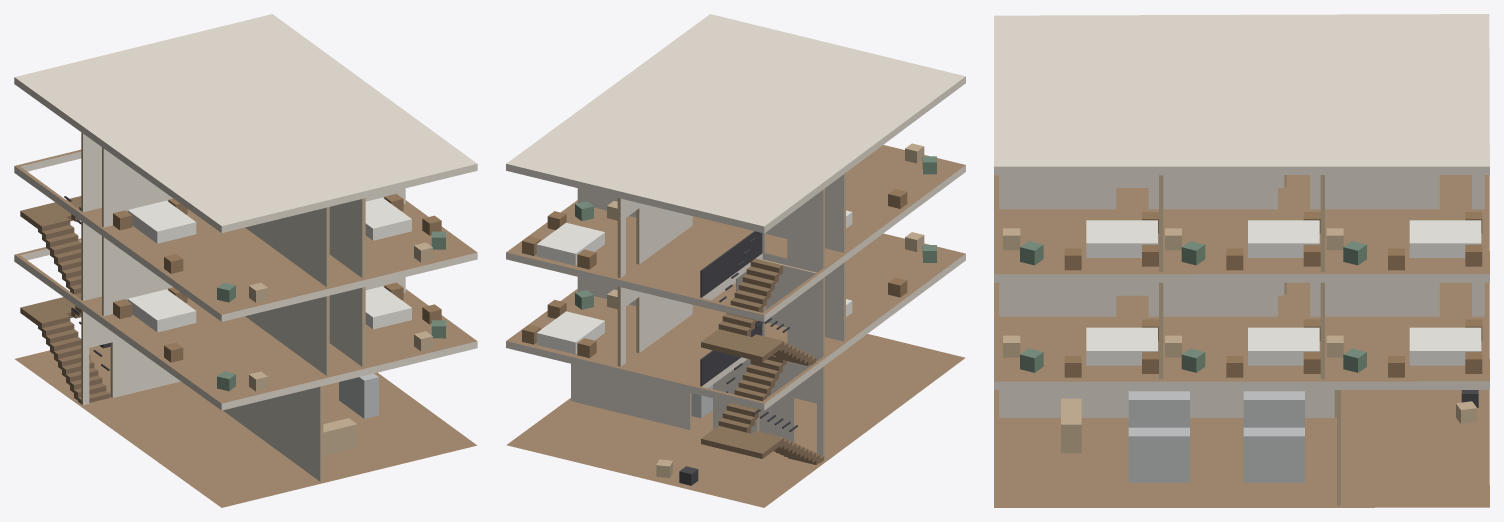
The model's file is interior.glb.
3 views of the same model, side by side, from view 1: azimuth 30°, elevation 25°; view 2: azimuth 150°, elevation 25°; view 3: azimuth 270°, elevation 25° (orthographic). The views are drawn at different scales.
Visible parts, largest first — view 1: slabs, partitions, stair, coarse-s1, coarse-s2, coarse-s0; view 2: slabs, partitions, stair, coarse-s2, coarse-s1, coarse-s0; view 3: slabs, partitions, coarse-s0, coarse-s1, coarse-s2.
Boxes of the visible parts, <box> form: slabs: <box>14,14,477,507</box>; partitions: <box>81,132,405,481</box>; stair: <box>20,196,110,404</box>; coarse-s1: <box>113,282,445,391</box>; coarse-s2: <box>113,194,445,302</box>; coarse-s0: <box>99,343,378,455</box>; slabs: <box>506,14,965,507</box>; partitions: <box>571,173,845,460</box>; stair: <box>700,231,824,464</box>; coarse-s2: <box>522,143,936,269</box>; coarse-s1: <box>522,232,936,358</box>; coarse-s0: <box>656,385,712,485</box>; slabs: <box>994,14,1489,507</box>; partitions: <box>999,175,1484,505</box>; coarse-s0: <box>1061,390,1478,482</box>; coarse-s1: <box>1003,319,1482,377</box>; coarse-s2: <box>1003,212,1482,270</box>.
Bounding box in the file's own units: 10.07 × 10.5 × 13.8.
